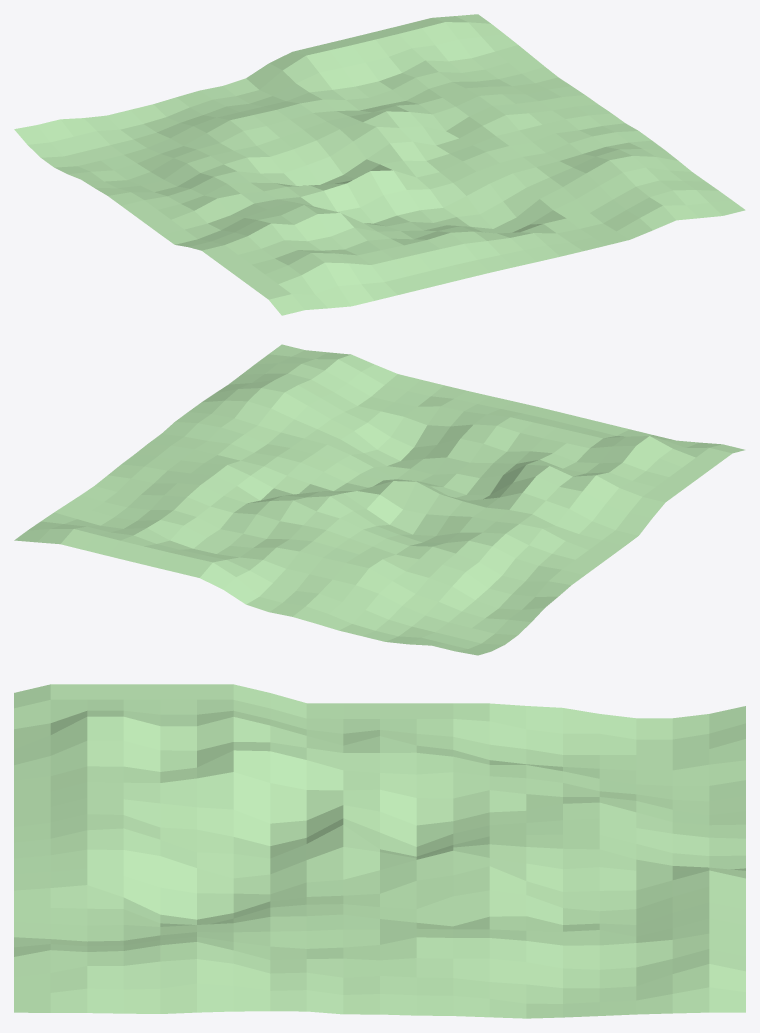
File: map.fbx
3 views of the same model, one above another, from view 1: azimuth 30°, elevation 25°; view 2: azimuth 150°, elevation 25°; view 3: azimuth 270°, elevation 25° (orthographic). The views are drawn at different scales.
Parts seen in each view (by area): view 1: Plane; view 2: Plane; view 3: Plane.
Boxes of the visible parts, bbox=[...] form: Plane: bbox=[14, 14, 745, 315]; Plane: bbox=[14, 344, 744, 655]; Plane: bbox=[14, 684, 745, 1018].
Size of the model in its own units: 2000 by 192 by 2000.
